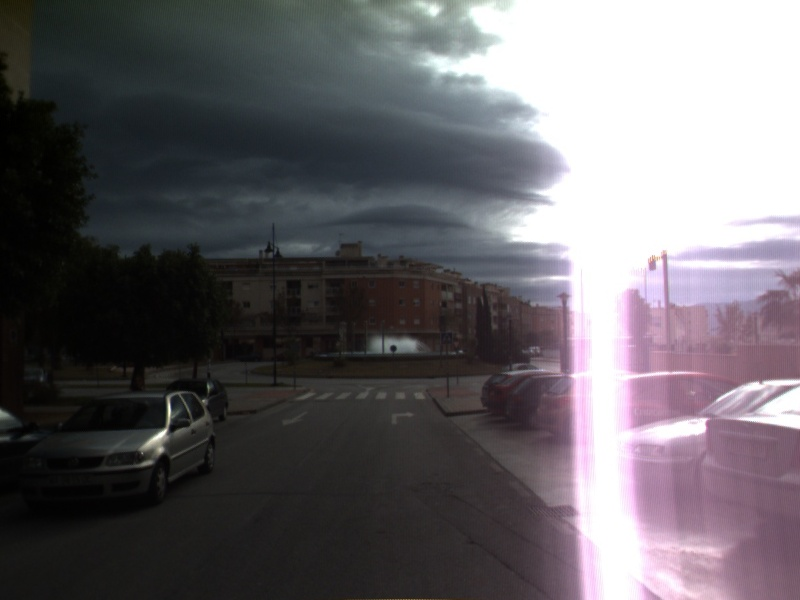RIGHT: (389, 409, 417, 426)
